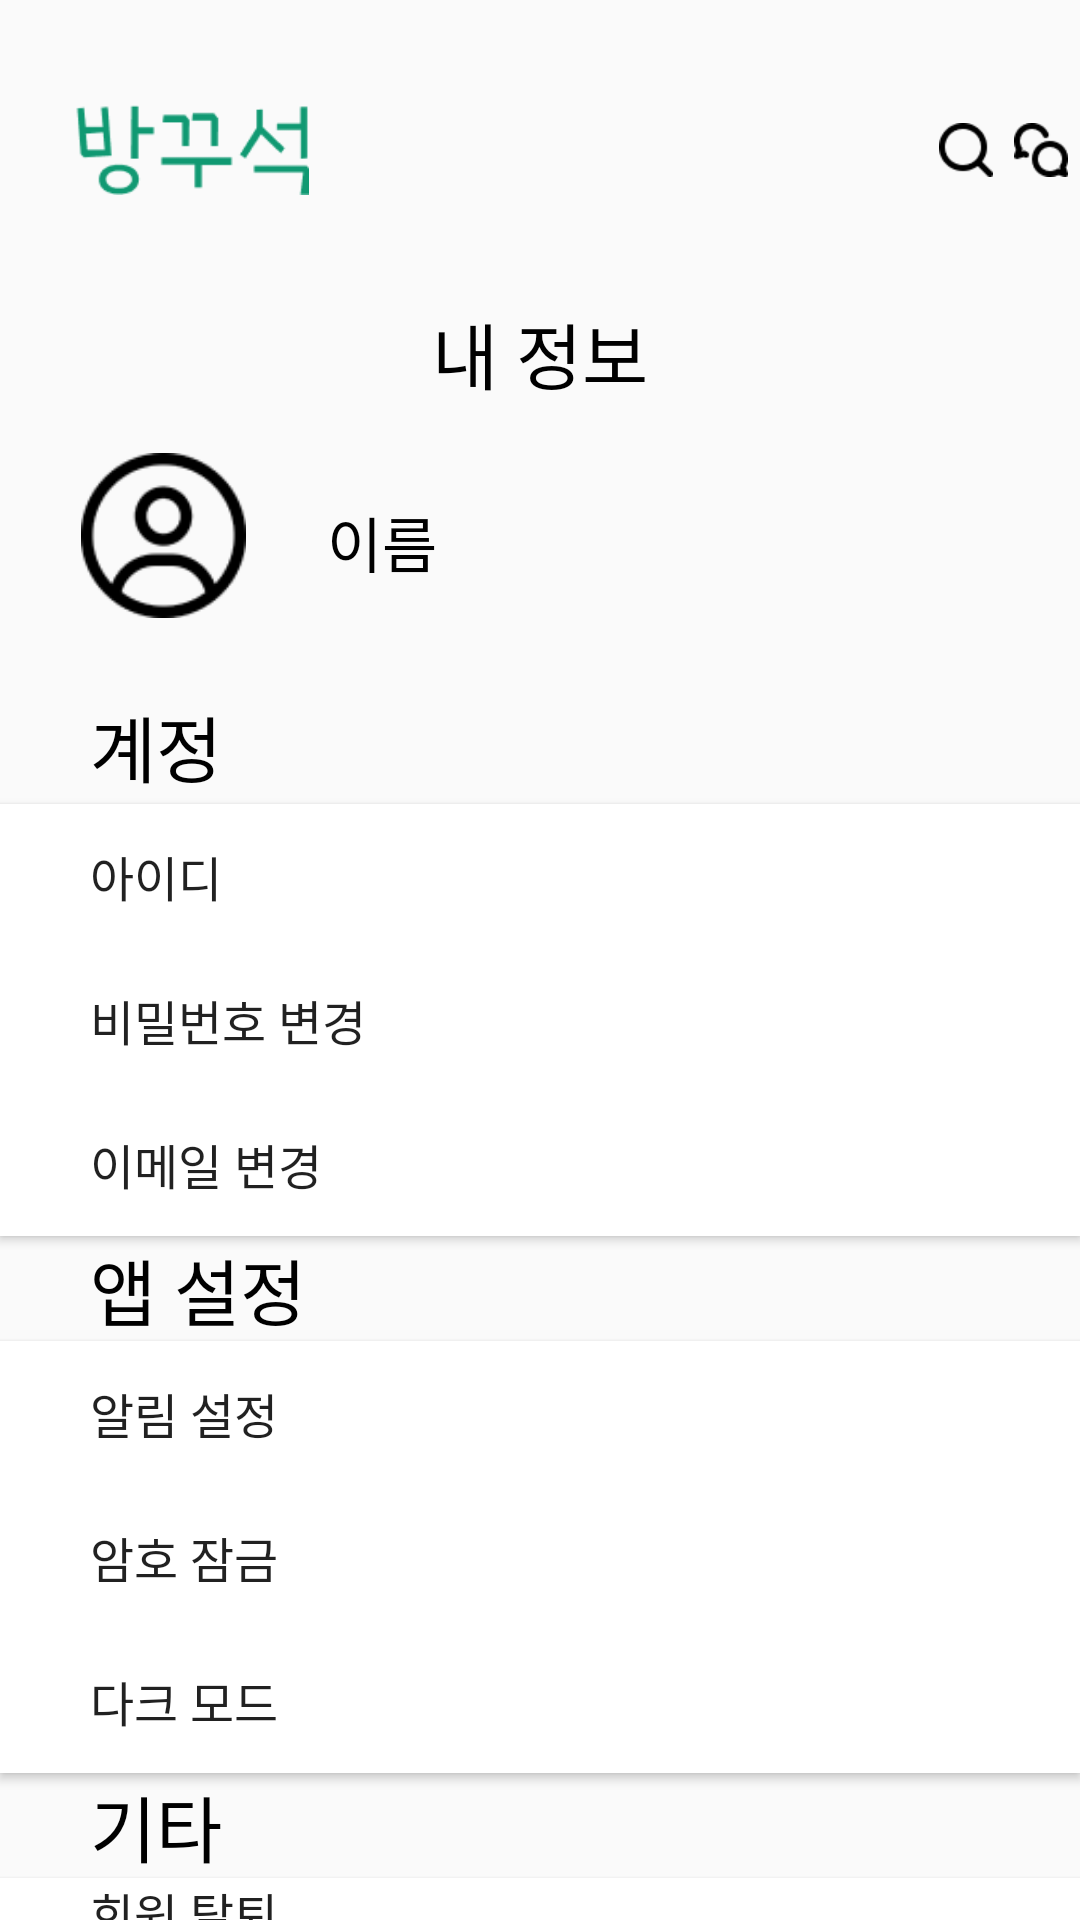

Icon bounding boxes for this 1080px x 1920px phone screenshot, format (x1, y1, x2, y2):
chat: (1014, 123, 1068, 177)
search: (939, 123, 993, 177)
